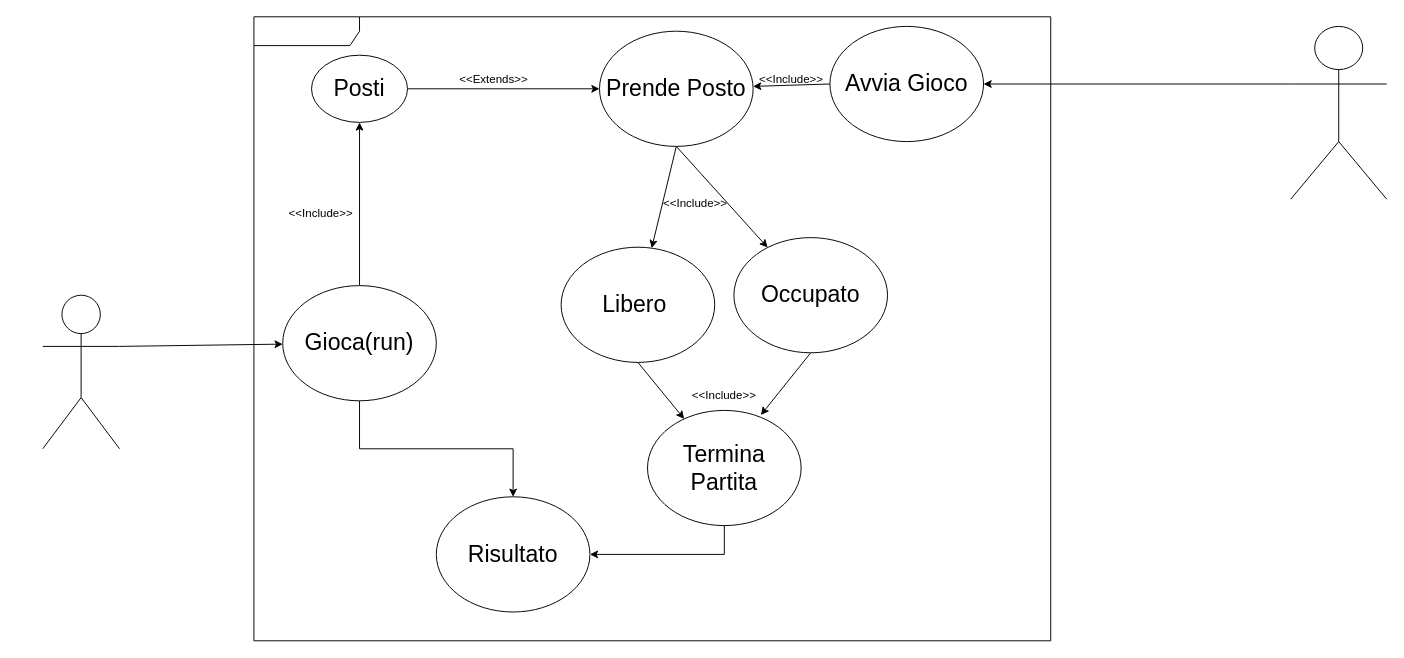
Some shapes in this 1404 by 658 pixel diagram are drawn without their labels. Here are the shapes that lost their labels. From the top down, the box of each, then its label:
(1290, 25, 1387, 199): Controllo
(253, 16, 1051, 641): Gioco Delle Sedie
(42, 294, 120, 449): Partecipante
